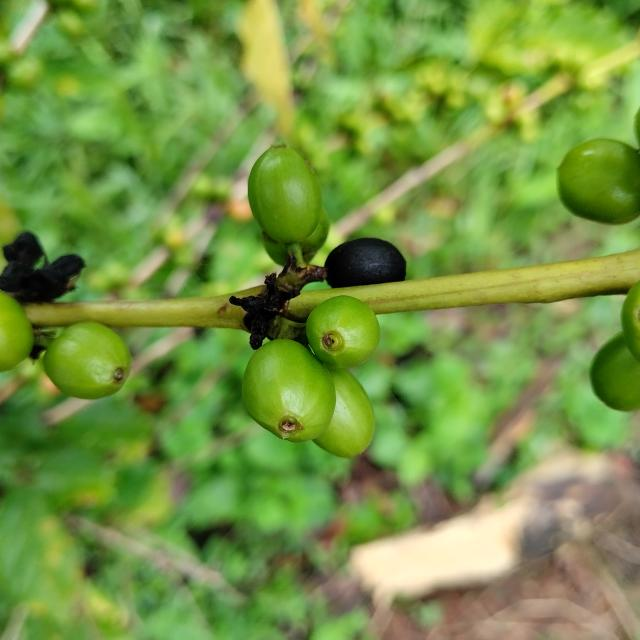green: (242, 339, 336, 443), (248, 145, 322, 244), (558, 138, 640, 224), (42, 322, 131, 400), (314, 367, 375, 458), (306, 295, 380, 368)
red: (325, 238, 406, 288)
